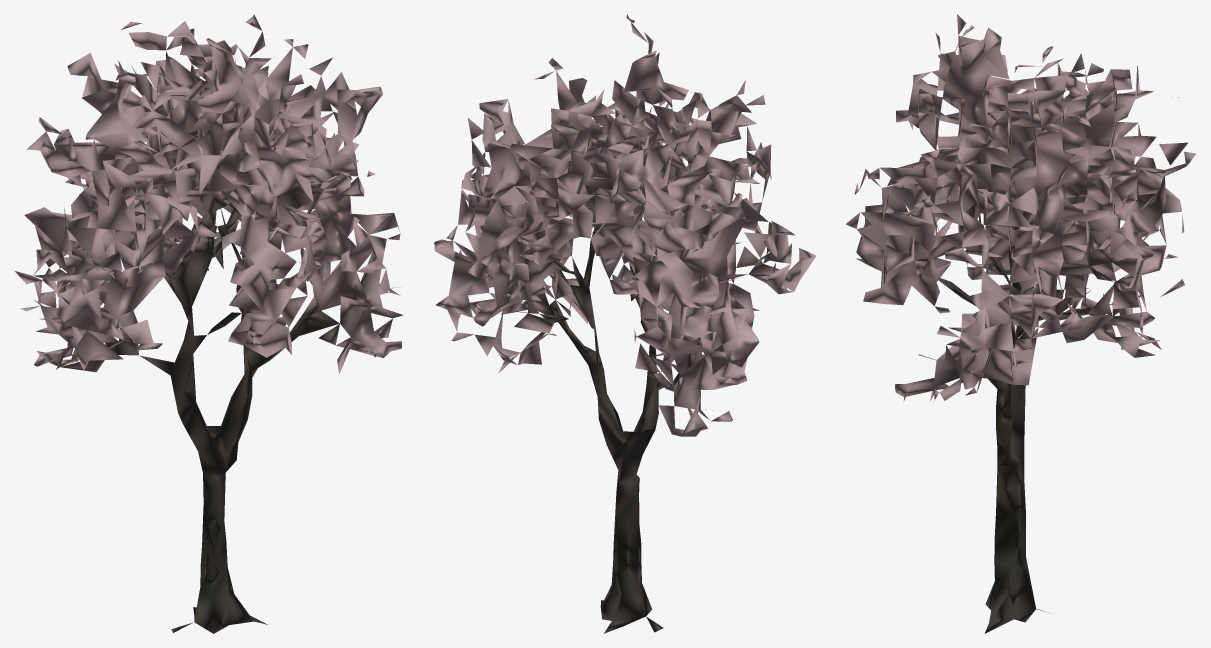
The model's file is sakura_b.2.glb.
3 renders of one model, left to right at view 1: azimuth 30°, elevation 25°; view 2: azimuth 150°, elevation 25°; view 3: azimuth 270°, elevation 25°, orthographic. The views are drawn at different scales.
Parts seen in each view (by area): view 1: lod; view 2: lod; view 3: lod.
Part boxes in pixels (left/top/right/bottom): lod: left=15, top=14, right=403, bottom=633; lod: left=434, top=14, right=816, bottom=633; lod: left=845, top=14, right=1195, bottom=633.
Bounding box in the file's own units: 0.5796 × 0.9924 × 0.5271.
